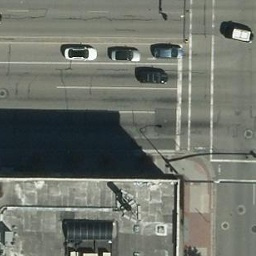car: (221, 24, 256, 44), (109, 43, 140, 63), (150, 44, 186, 61), (64, 44, 97, 62), (137, 69, 170, 84)
